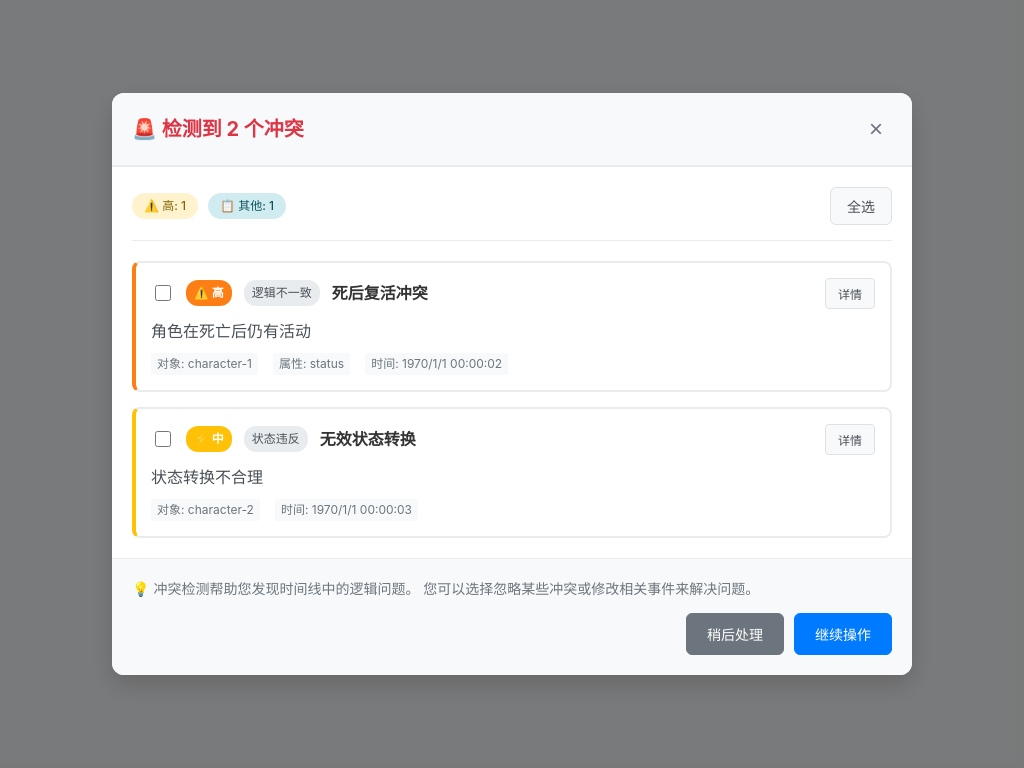
ConflictWarningDialog › 交互功能 › 应该支持全选/取消全选
The width and height of the screenshot is (1024, 768).
Step 1. Click the button "全选" → (861, 206), box [830, 187, 892, 225]
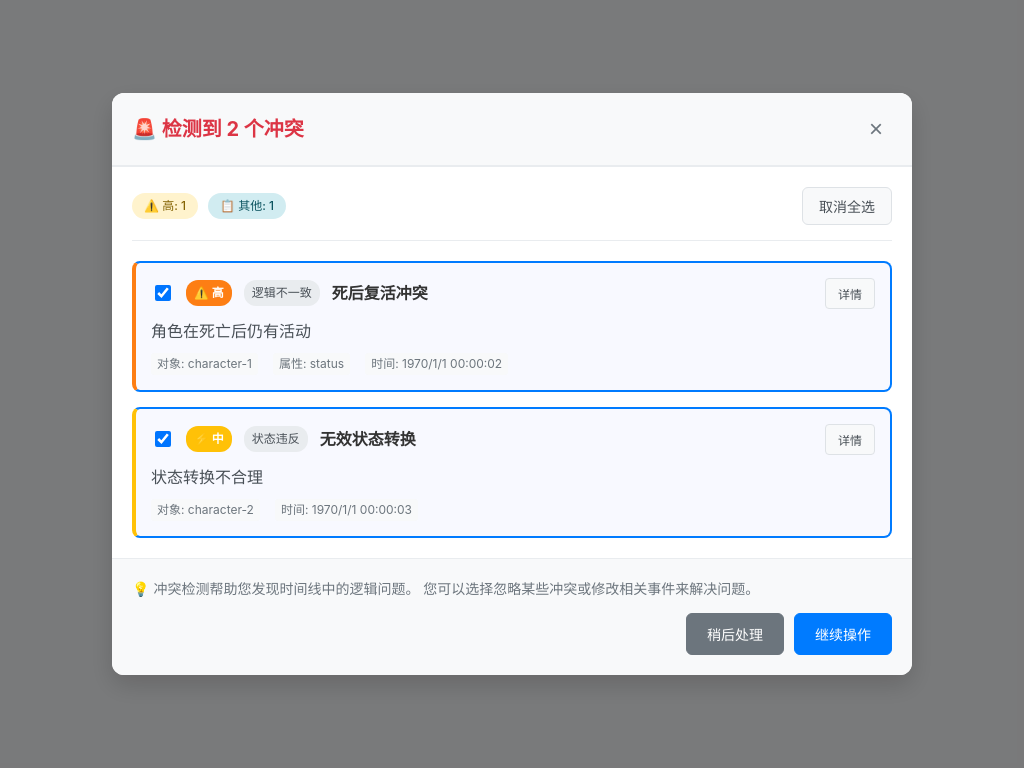
Expected: the checkbox in the row of "逻辑不一致" is checked, [155, 285, 171, 301]
Expected: the checkbox in the row of "状态违反" is checked, [155, 431, 171, 447]
Step 2. Click the button "取消全选" → (847, 206), box [802, 187, 892, 225]
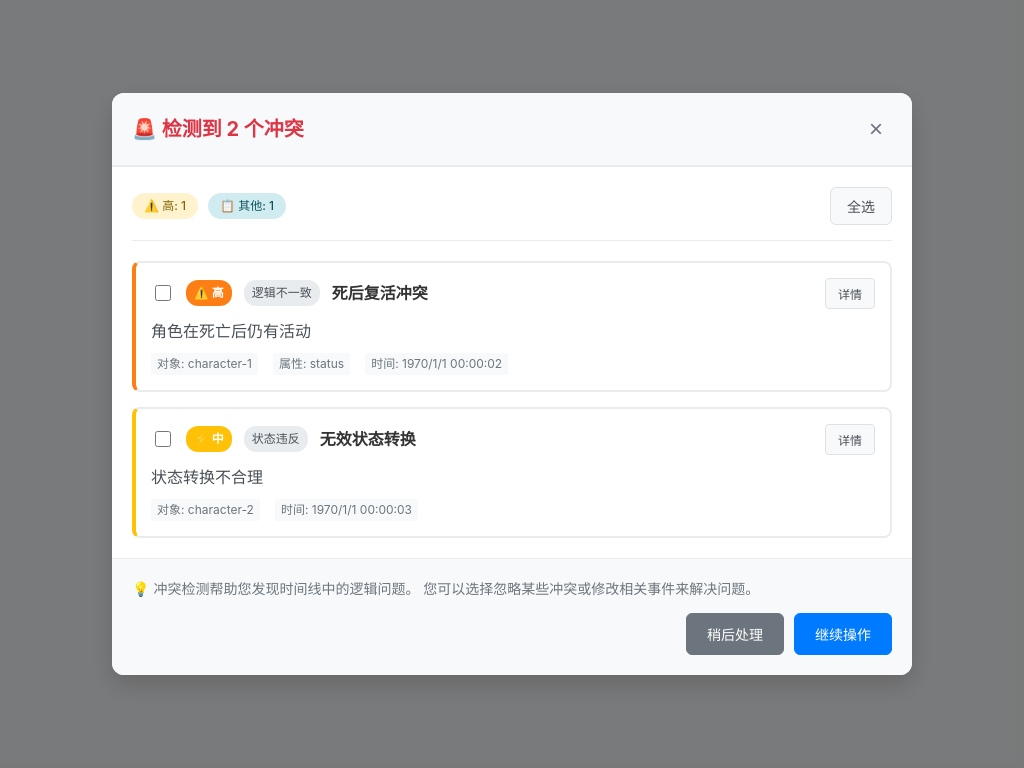
Expected: the checkbox in the row of "逻辑不一致" is not checked, [155, 285, 171, 301]
Expected: the checkbox in the row of "状态违反" is not checked, [155, 431, 171, 447]
